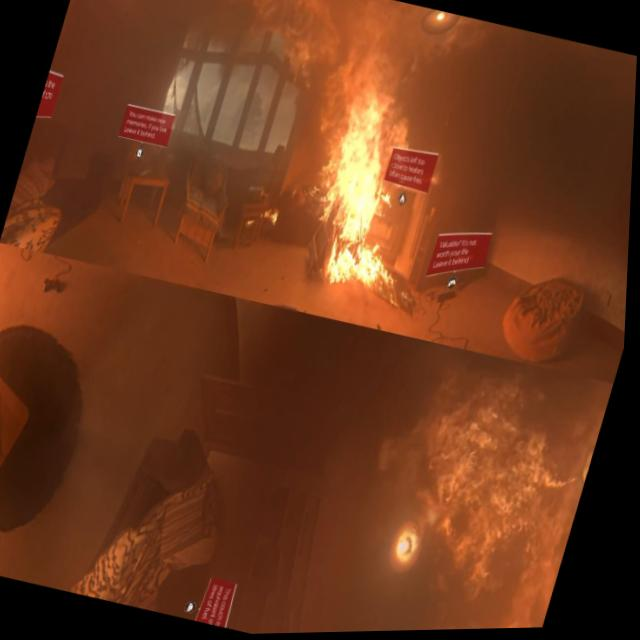fire: (300, 88, 456, 308)
